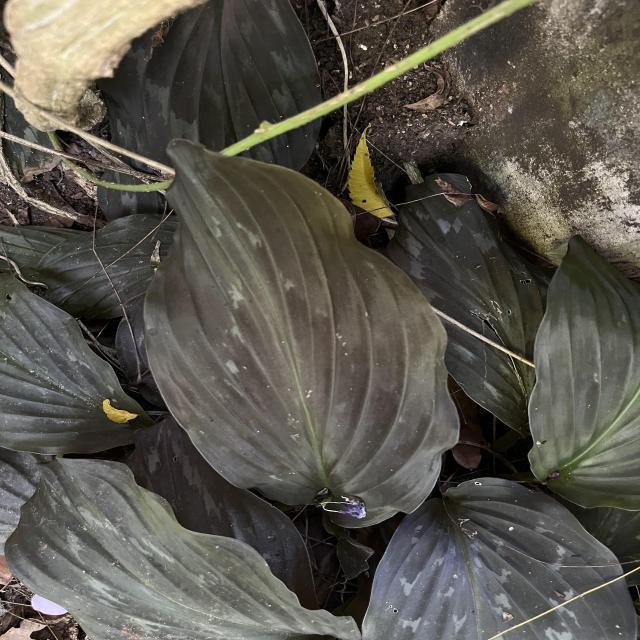Kaempferia galanga linn: (138, 134, 464, 534)
